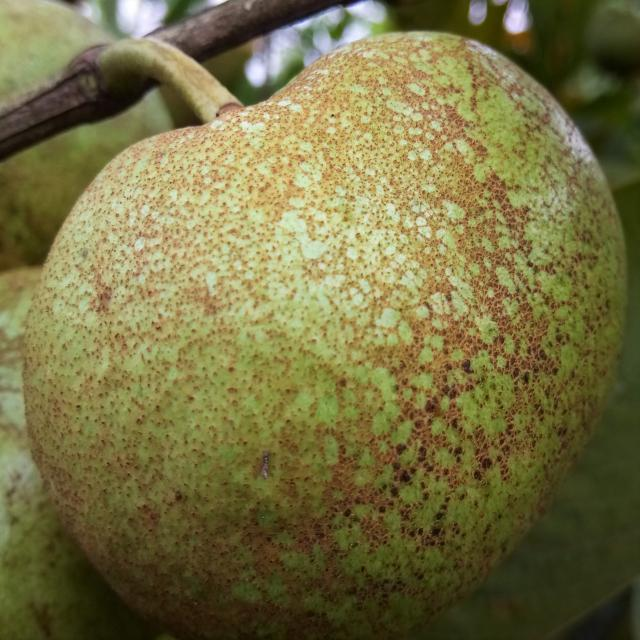Scab: (25, 33, 625, 636)
